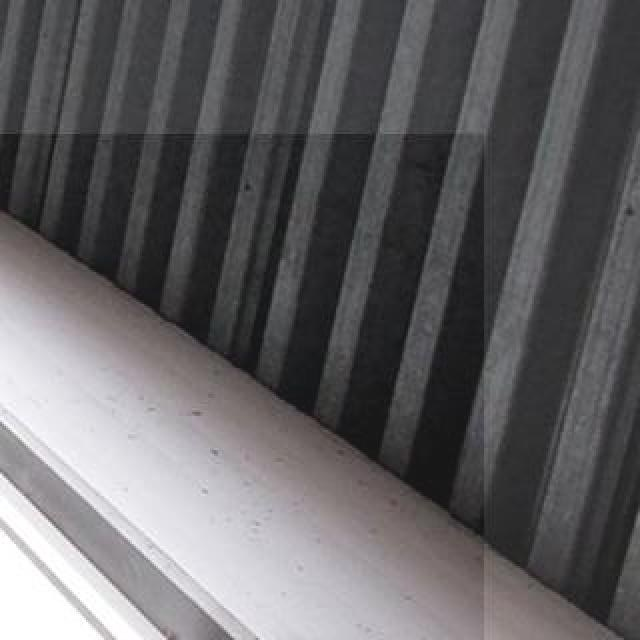fluorescent tube: (0, 132, 480, 640)
